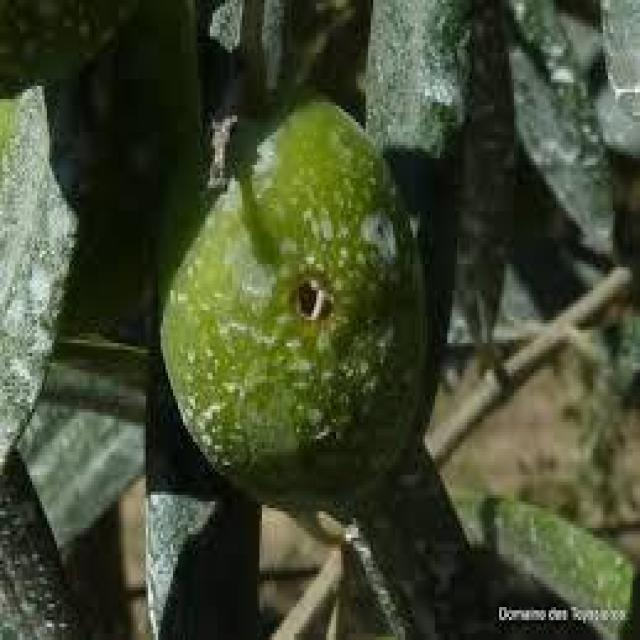Anthracnose: (164, 102, 422, 498)
